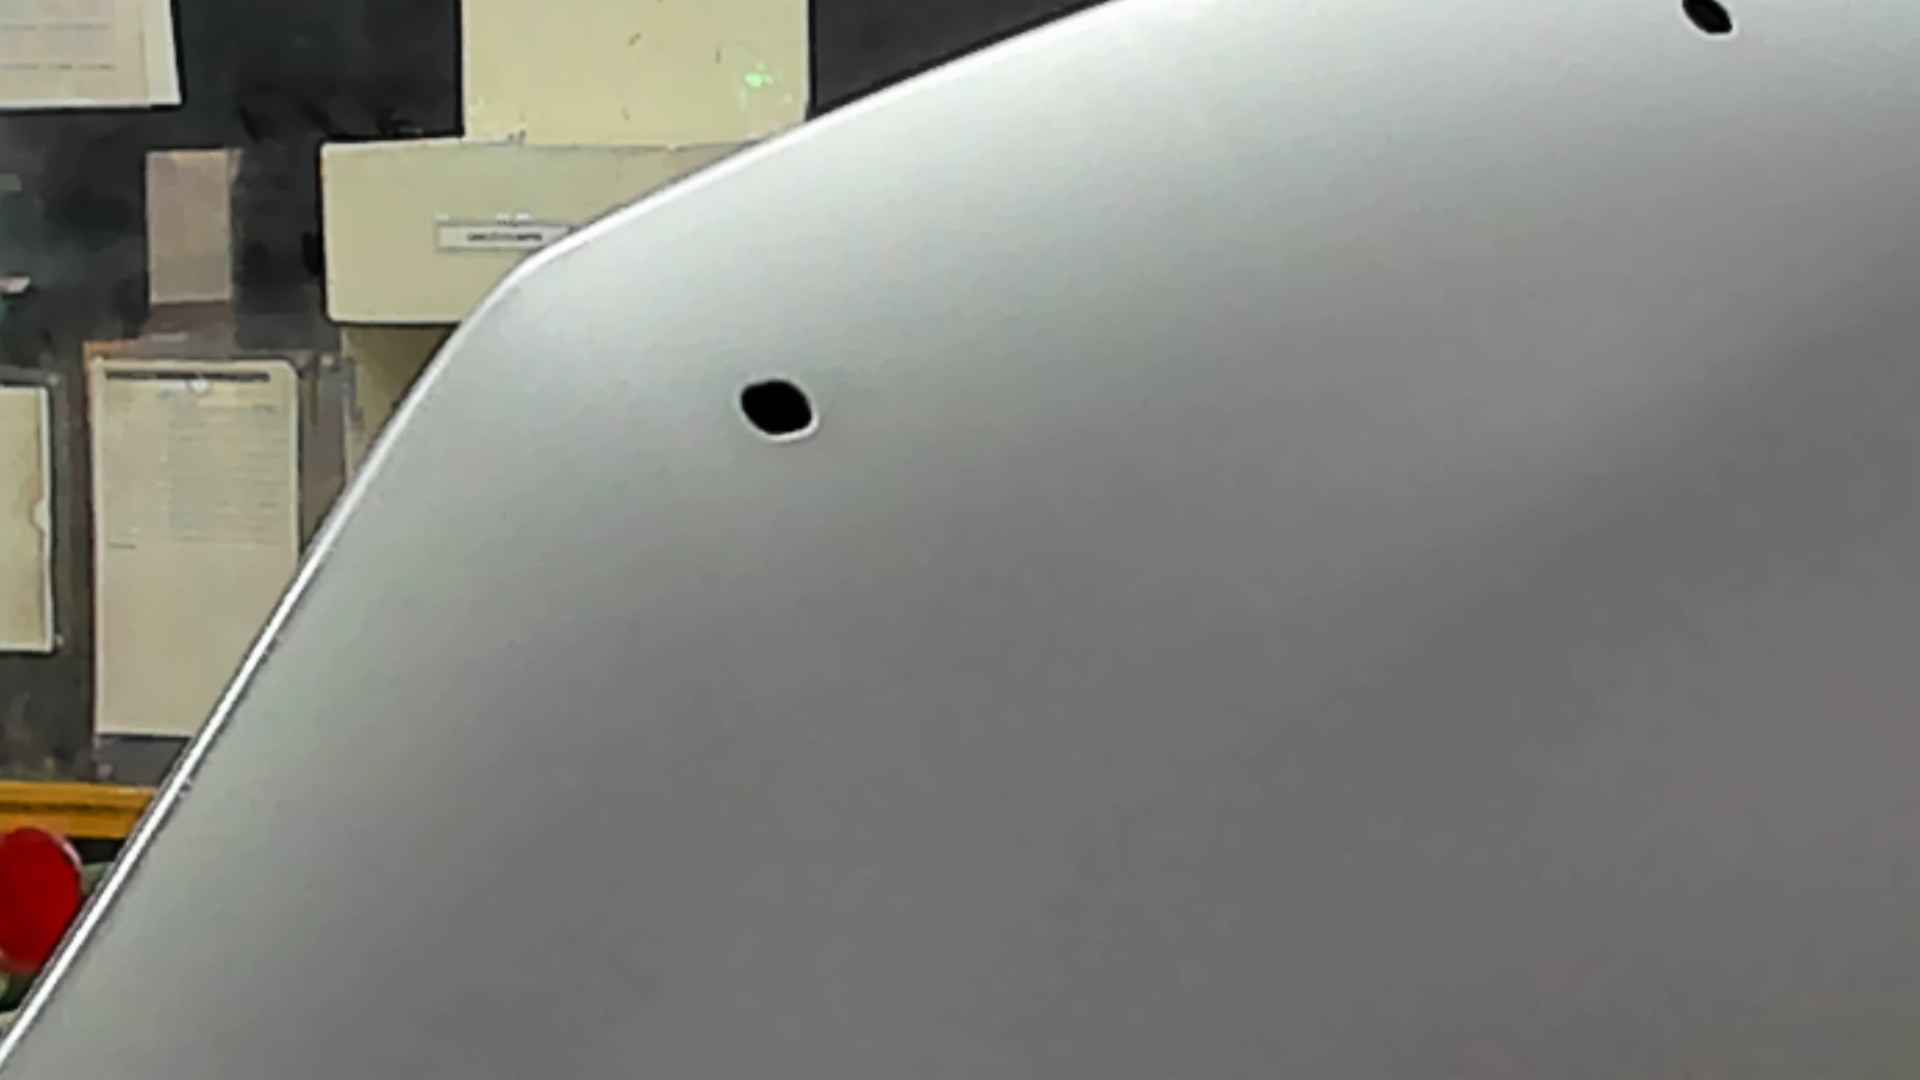chico: (727, 375, 827, 444), (1675, 1, 1750, 53)
